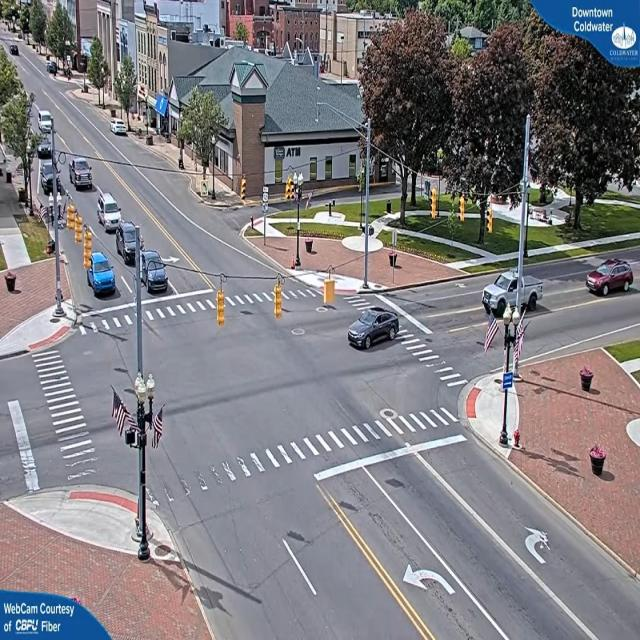car: (348, 303, 401, 351), (586, 258, 636, 298), (85, 252, 118, 296), (141, 249, 171, 293), (32, 109, 55, 158), (96, 193, 123, 231), (67, 156, 93, 192), (118, 223, 142, 260), (112, 121, 128, 136)
